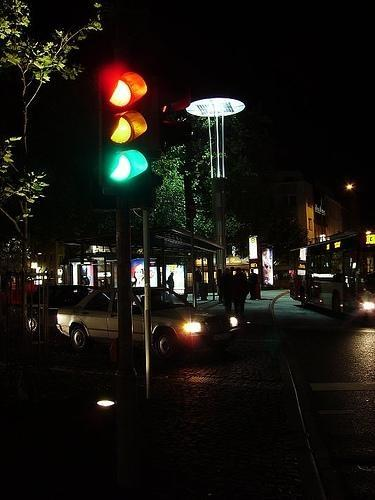bus: (289, 229, 375, 321)
car: (55, 285, 239, 360)
